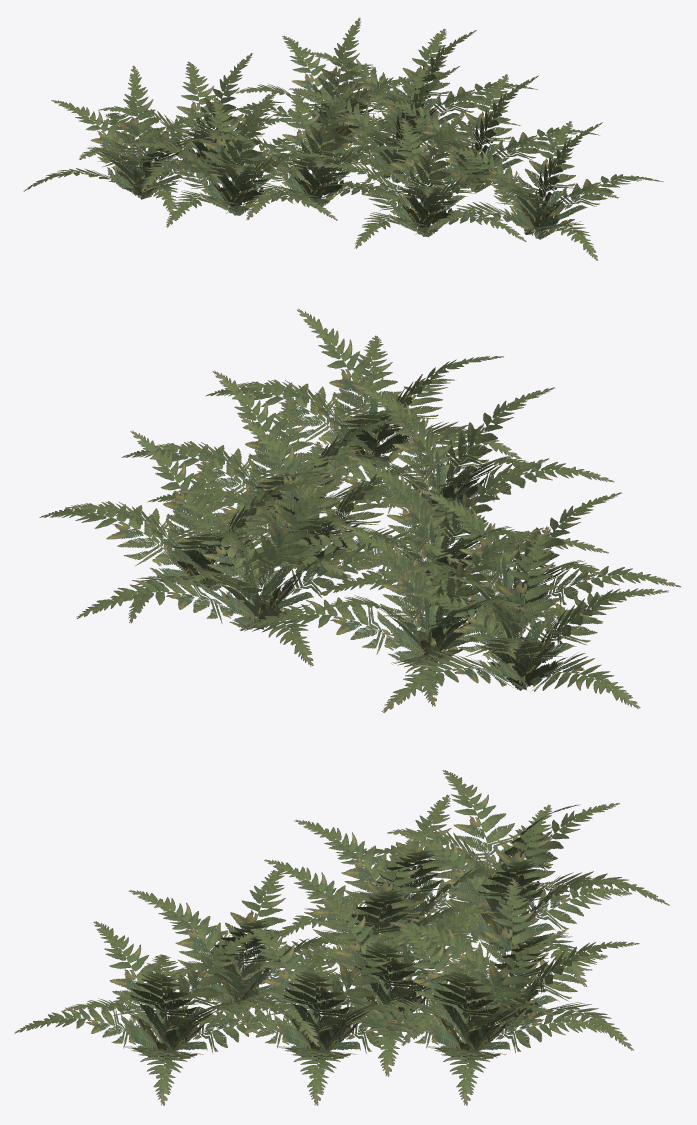
Rendered from fern_grass_01.glb.
The picture shows the model from 3 angles, top to bottom: view 1: azimuth 30°, elevation 25°; view 2: azimuth 150°, elevation 25°; view 3: azimuth 270°, elevation 25°; orthographic projection. The views are drawn at different scales.
Visible parts, largest first — view 1: Object_2; view 2: Object_2; view 3: Object_2.
Boxes of the visible parts, x1,y1,x2,y2 form: Object_2: [23, 17, 663, 260]; Object_2: [39, 308, 681, 712]; Object_2: [14, 770, 669, 1105].
Bounding box in the file's own units: 15.27 × 3.36 × 15.
Materials: 1 (1 with a texture image).
